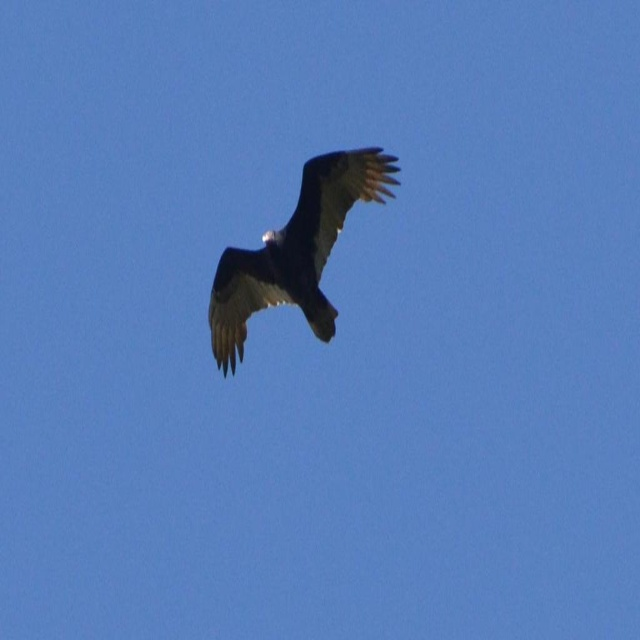Eagle: (203, 132, 401, 373)
